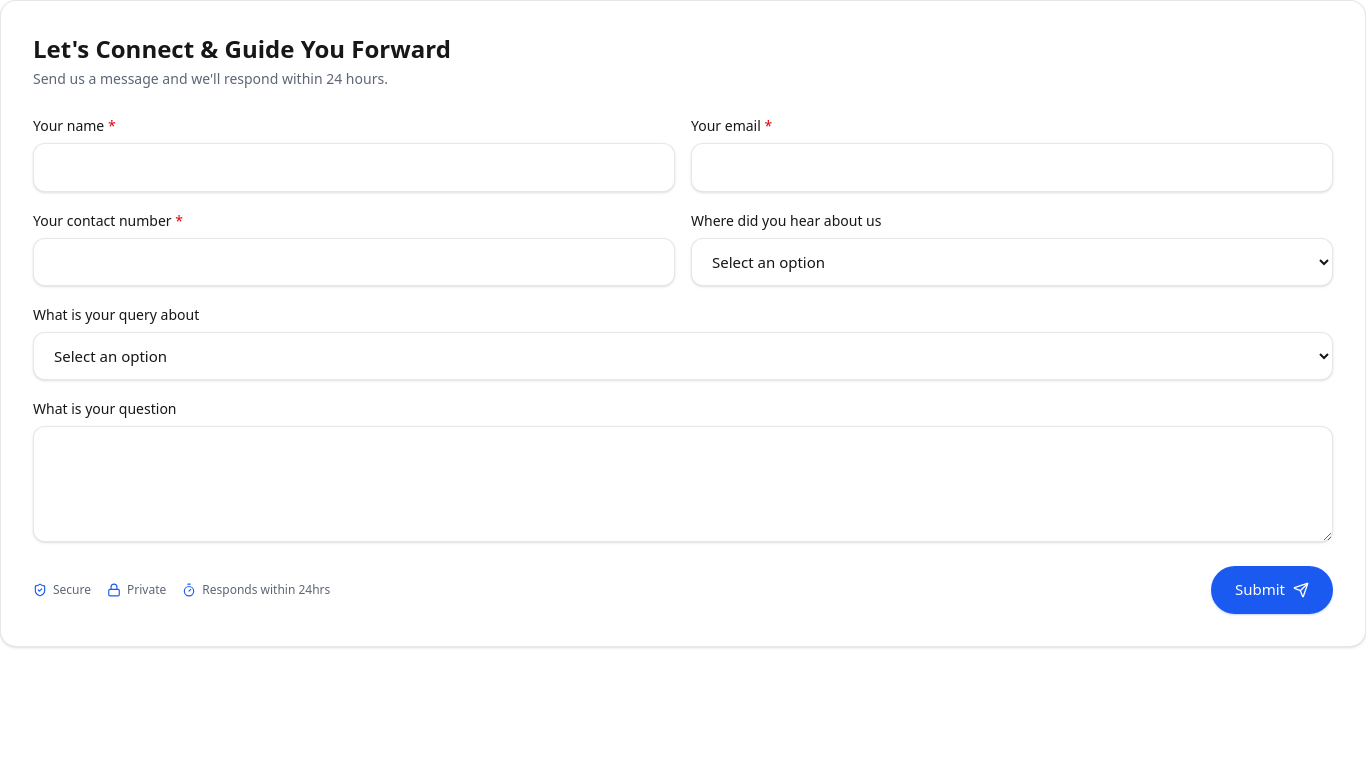
Test case: ContactForm › clears a field error as soon as the user edits it
The image size is (1366, 768).
Step 1. Click the button "Submit" → (1272, 590), box [1211,566,1333,614]
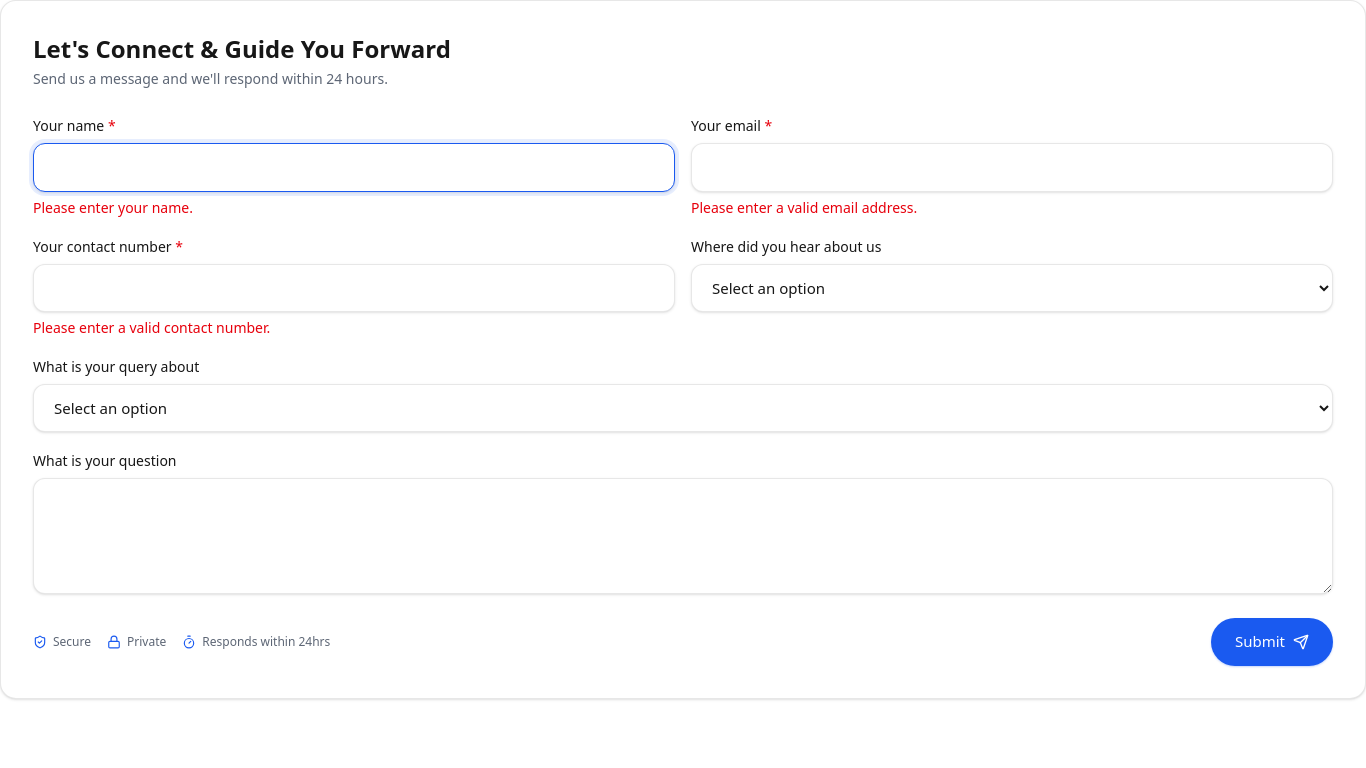
Step 2. Type "A" into the field labelled "Your name *" → (354, 167), box [33,143,675,192]
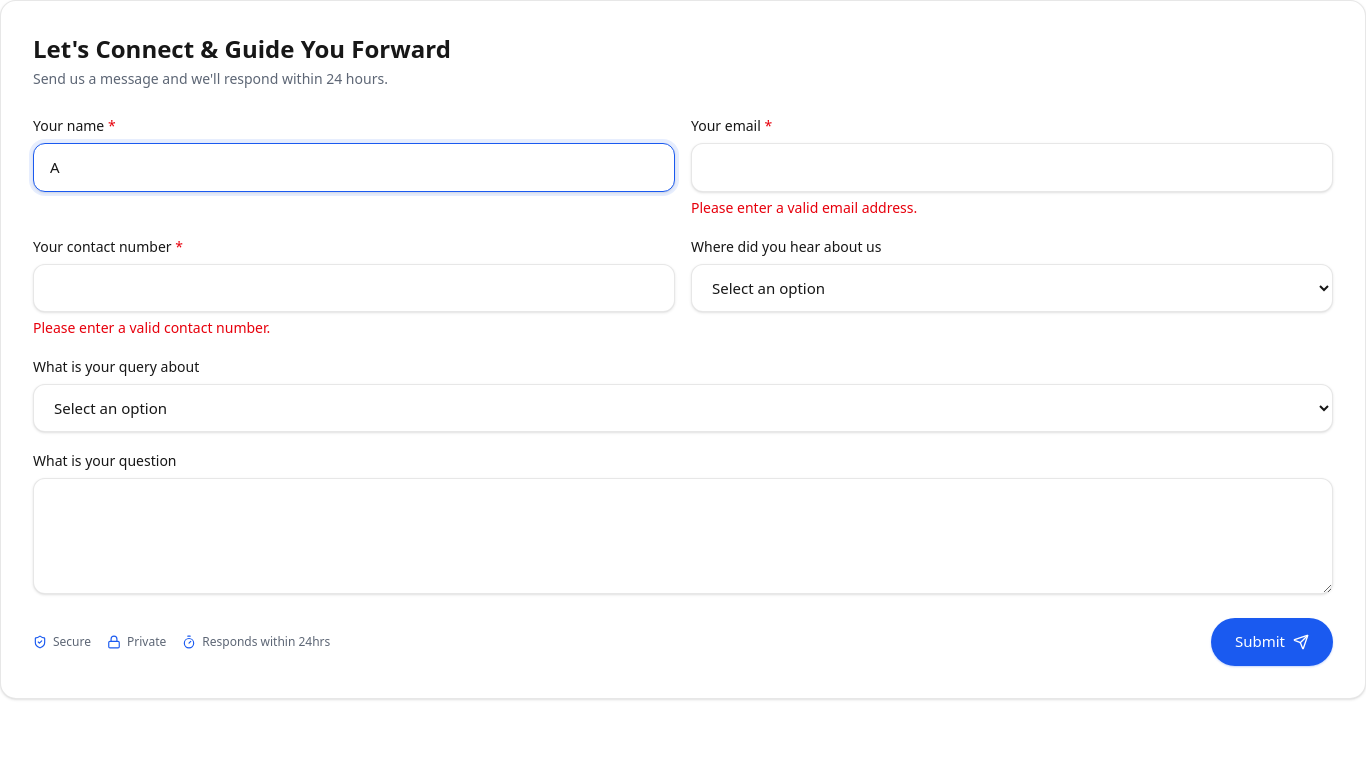
Expected: the text "Please enter a valid email address." is shown, [691,198,917,216]
Expected: the text "Please enter your name." is gone
